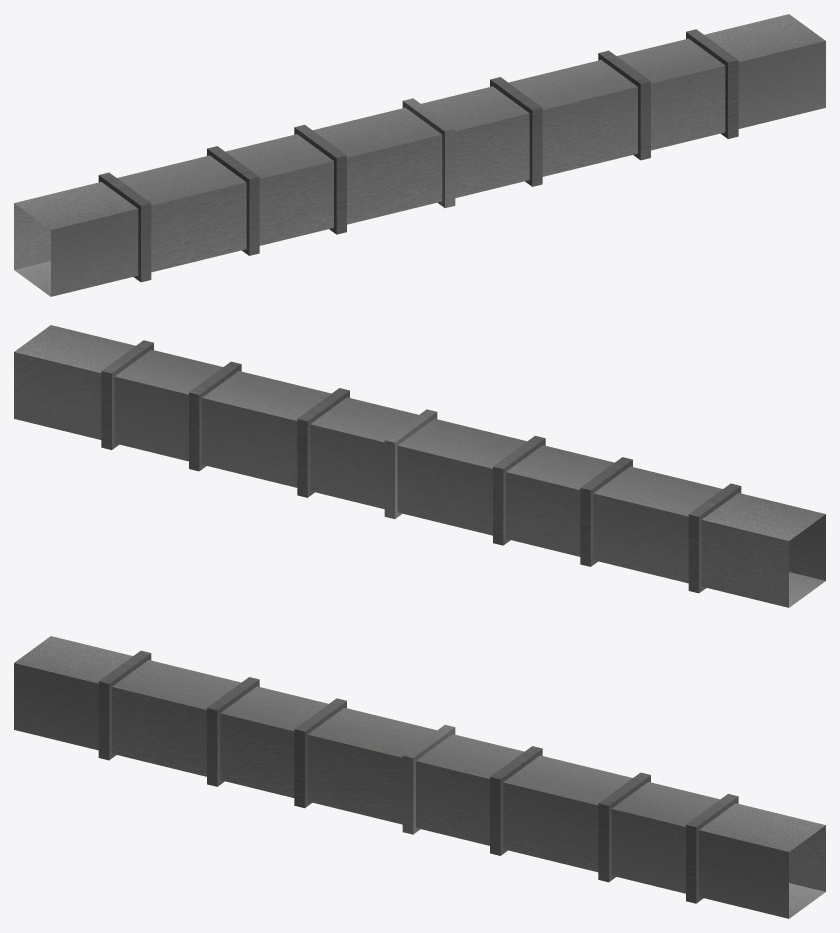
The model's file is Tubulacao2.fbx.
3 renders of one model, top to bottom at view 1: azimuth 30°, elevation 25°; view 2: azimuth 150°, elevation 25°; view 3: azimuth 330°, elevation 25°, orthographic.
Visible parts, largest first — view 1: Cube; view 2: Cube; view 3: Cube.
Part boxes in pixels (x1,y1,x2,y2): Cube: (14, 14, 825, 296); Cube: (14, 325, 825, 607); Cube: (14, 636, 825, 918).
Bounding box in the file's own units: 1078 × 102 × 102.
Materials: 1 (1 with a texture image).
